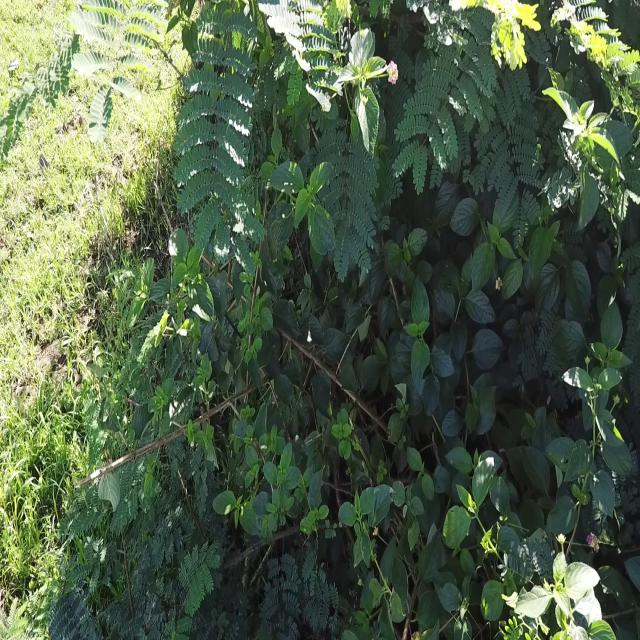Mysore-Thorn-Weed: (0, 0, 638, 257), (55, 498, 223, 640), (262, 538, 350, 640), (0, 159, 9, 162)
